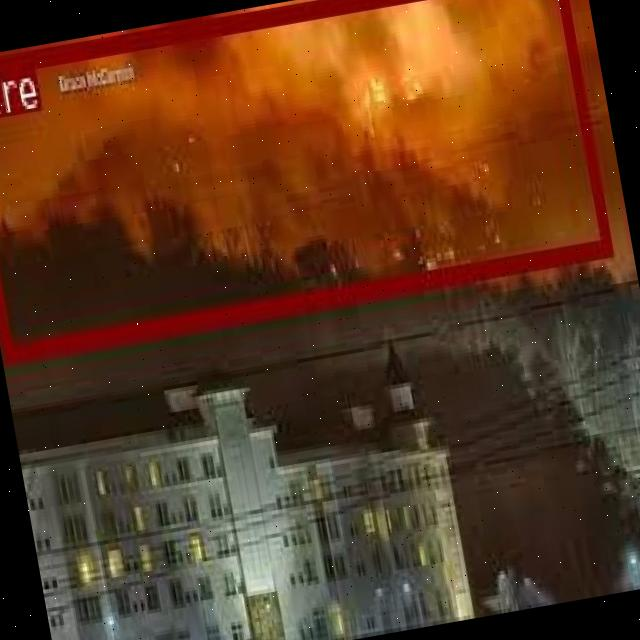fire: (0, 0, 611, 357)
